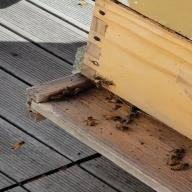Bee: (3, 135, 31, 151), (79, 114, 101, 130)
